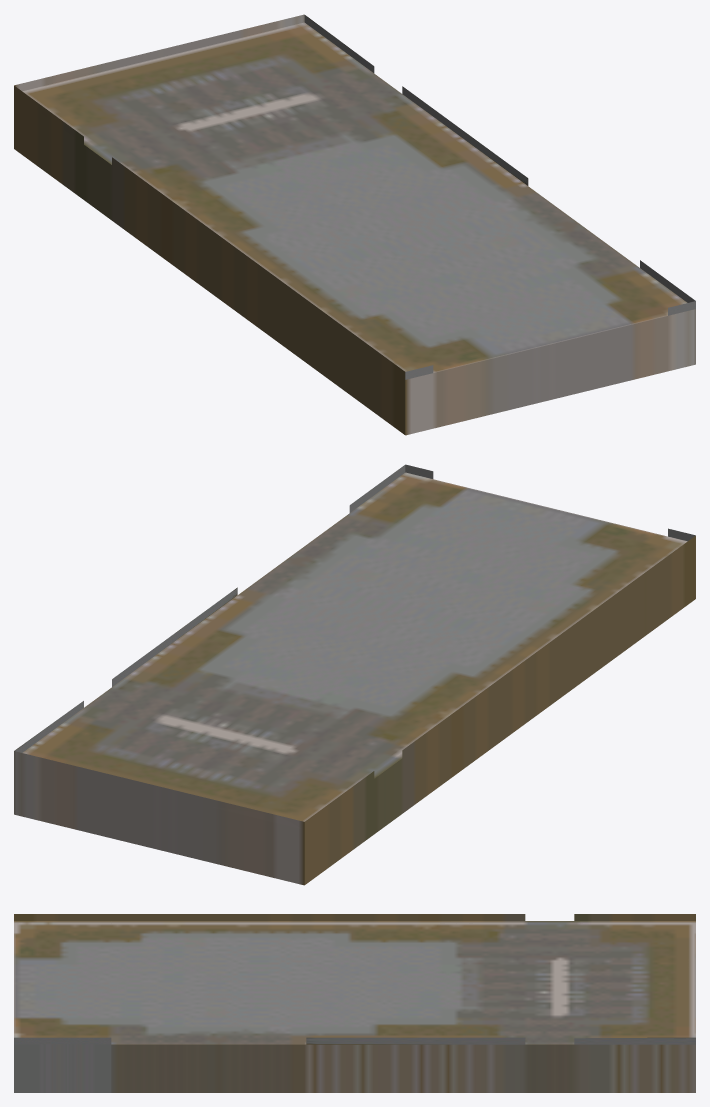
The model's file is lodassedge30.obj.
3 renders of one model, top to bottom at view 1: azimuth 30°, elevation 25°; view 2: azimuth 150°, elevation 25°; view 3: azimuth 270°, elevation 25°, orthographic. The views are drawn at different scales.
Visible parts, largest first — view 1: lodasSedge30; view 2: lodasSedge30; view 3: lodasSedge30.
Boxes of the visible parts, left/top/right/bottom form: lodasSedge30: left=14, top=14, right=695, bottom=435; lodasSedge30: left=14, top=464, right=695, bottom=885; lodasSedge30: left=14, top=914, right=695, bottom=1092.
Bounding box in the file's own units: 60.01 × 12.55 × 140.
1 material, 1 textured.
